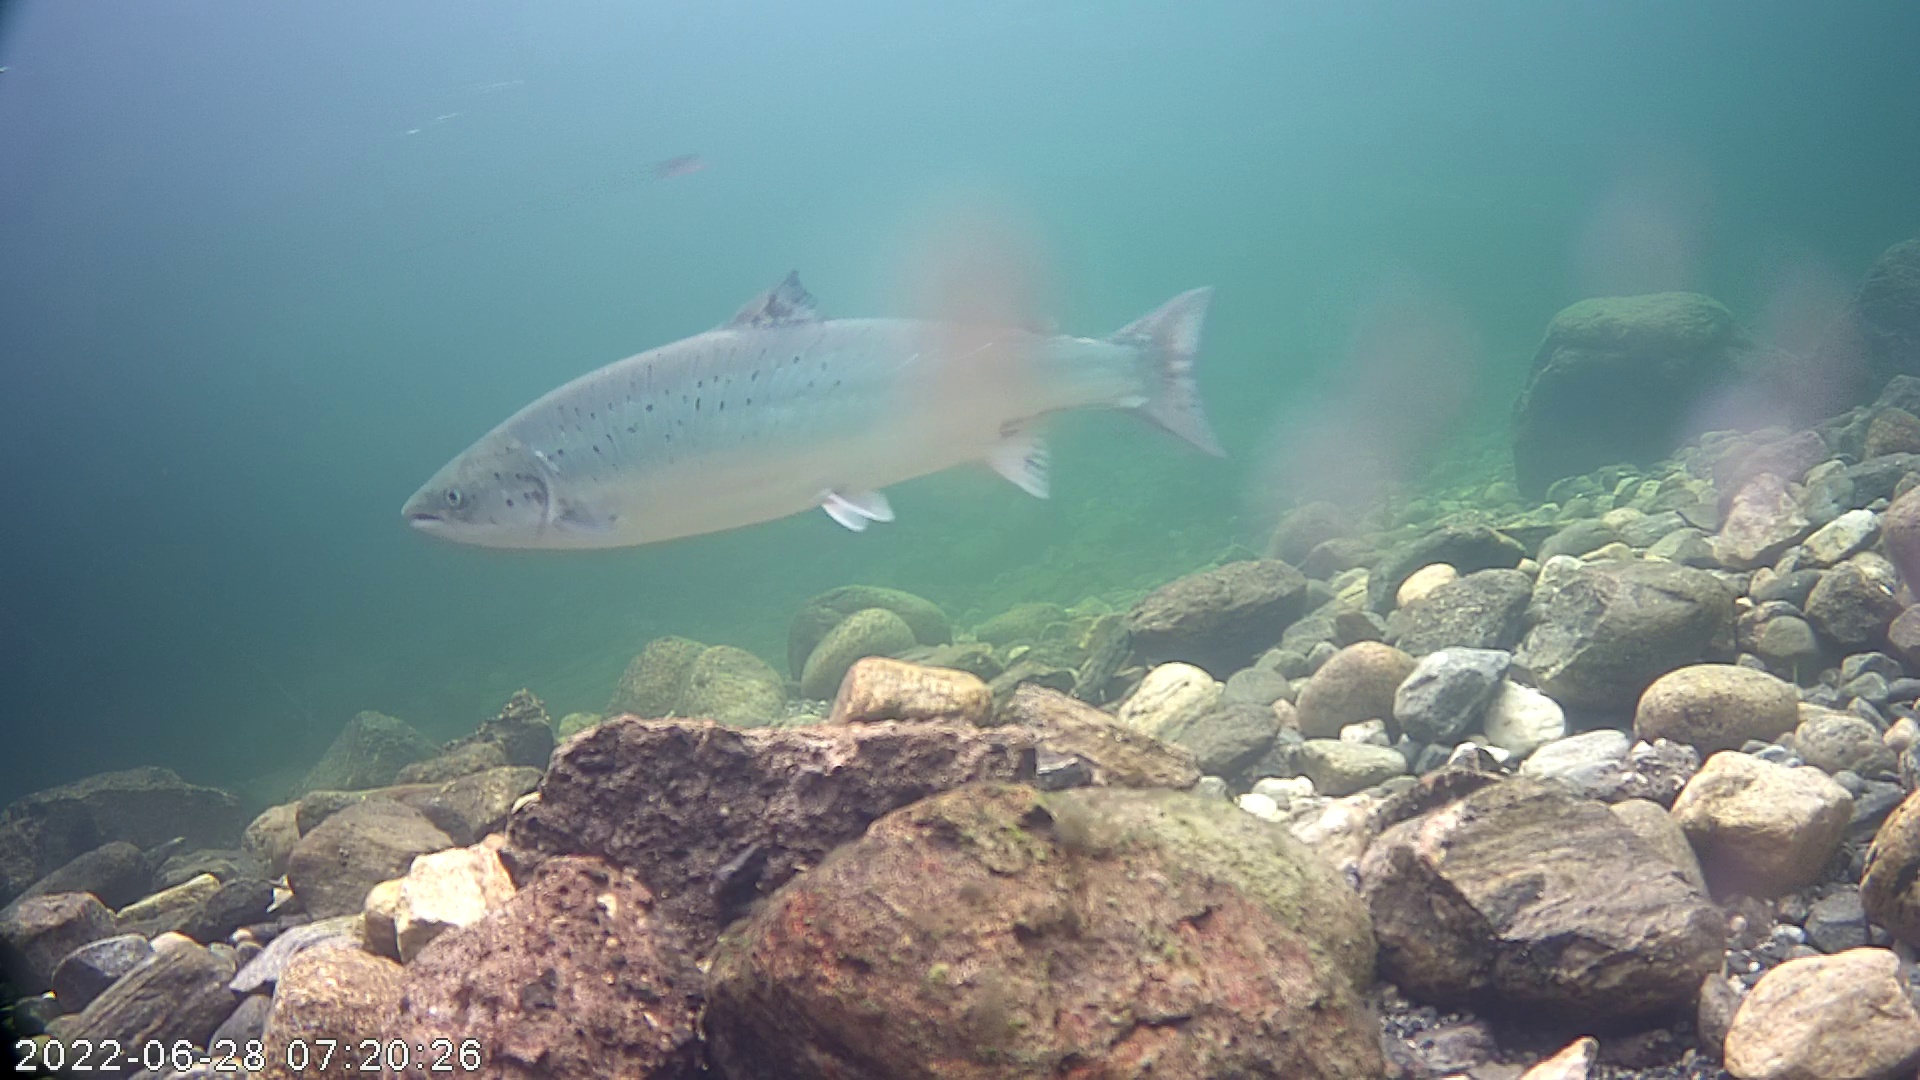salmon: (400, 185, 1247, 611)
